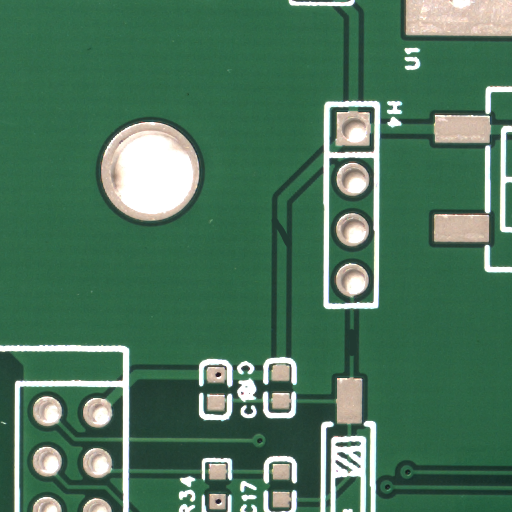Open_circuit: (282, 232, 293, 258), (349, 342, 357, 369)
